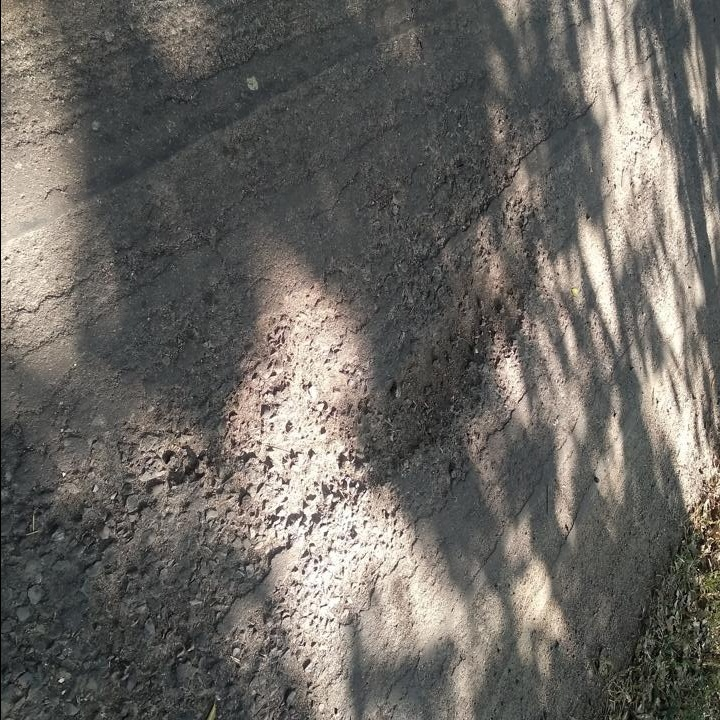pothole: (348, 209, 535, 496)
